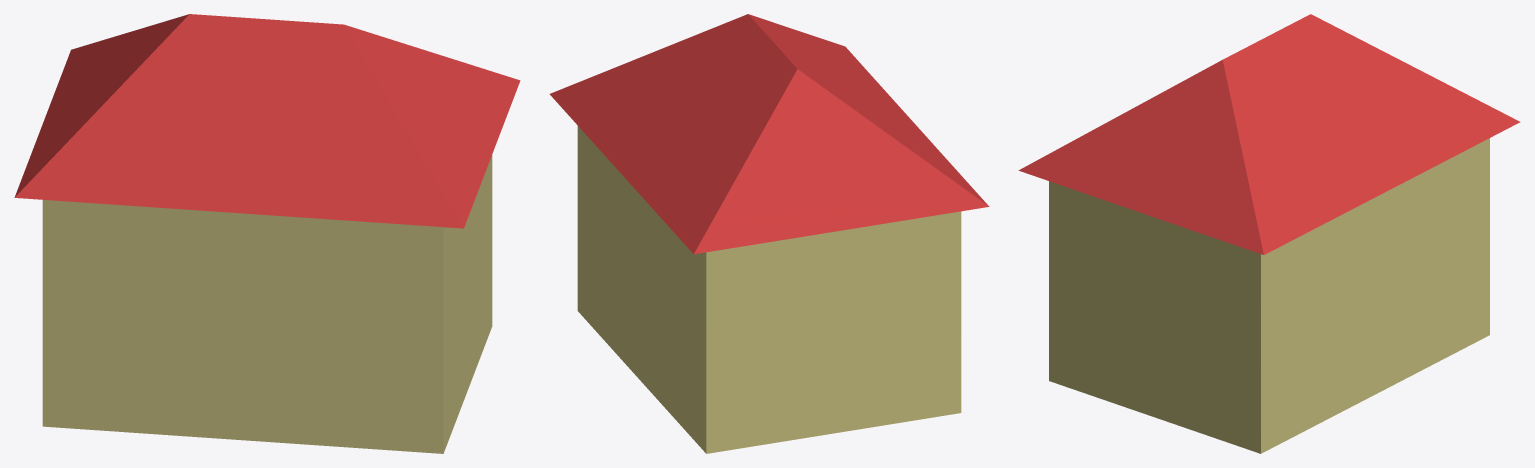
The picture shows the model from 3 angles, left to right: view 1: azimuth 30°, elevation 25°; view 2: azimuth 150°, elevation 25°; view 3: azimuth 270°, elevation 25°; orthographic projection. The views are drawn at different scales.
Visible parts, largest first — view 1: group_5, group_3, group_4; view 2: group_5, group_3, group_4; view 3: group_5, group_3, group_4.
Boxes of the visible parts, box(x1,y1,x2,y2) form: group_5: box(42, 155, 492, 453); group_3: box(14, 14, 491, 228); group_4: box(14, 44, 520, 228); group_5: box(577, 126, 961, 453); group_3: box(554, 14, 989, 254); group_4: box(550, 83, 986, 253); group_5: box(1049, 138, 1489, 453); group_3: box(1052, 14, 1519, 254); group_4: box(1018, 122, 1519, 254).
Bounding box in the file's own units: 17.61 × 17.18 × 12.08.
